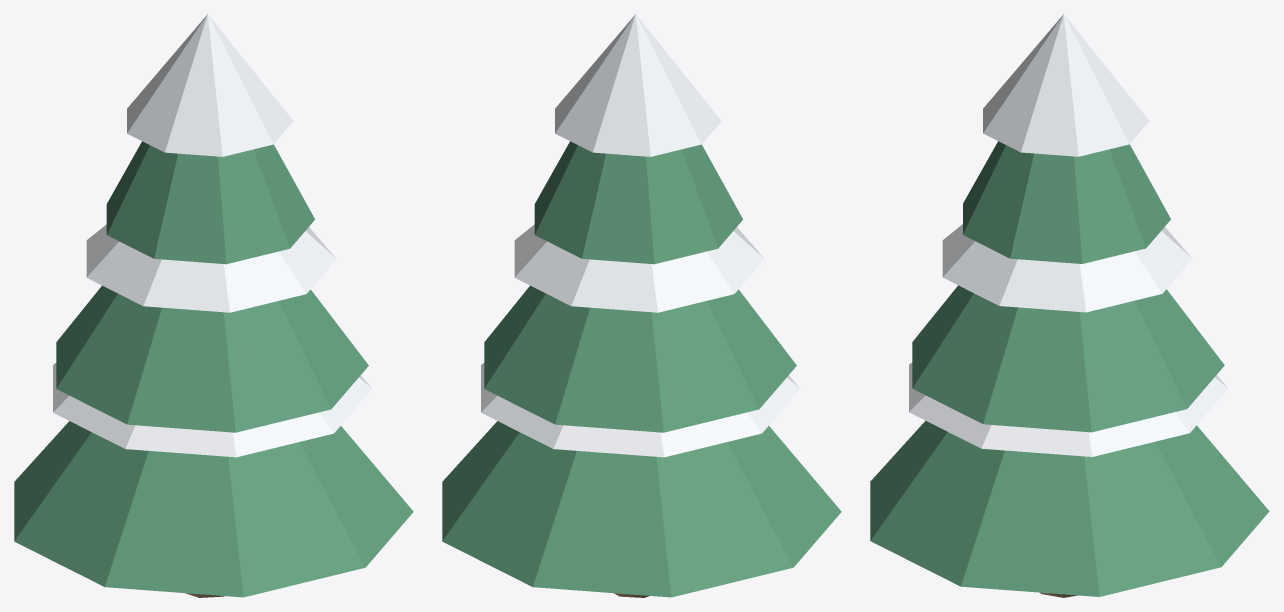
File: tree.glb
3 views of the same model, side by side, from view 1: azimuth 30°, elevation 25°; view 2: azimuth 150°, elevation 25°; view 3: azimuth 270°, elevation 25° (orthographic).
Visible parts, largest first — view 1: pine0, pine1, pine2, psnow2, psnow1, psnow0; view 2: pine0, pine1, pine2, psnow2, psnow1, psnow0; view 3: pine0, pine1, pine2, psnow2, psnow1, psnow0.
Boxes of the visible parts, <box> form: pine0: <box>14,421,413,597</box>; pine1: <box>56,285,368,432</box>; pine2: <box>106,141,314,264</box>; psnow2: <box>127,14,293,156</box>; psnow1: <box>86,224,336,312</box>; psnow0: <box>53,363,372,457</box>; pine0: <box>442,421,841,597</box>; pine1: <box>484,285,796,432</box>; pine2: <box>534,141,742,264</box>; psnow2: <box>555,14,721,156</box>; psnow1: <box>514,224,764,312</box>; psnow0: <box>481,363,800,457</box>; pine0: <box>870,420,1269,596</box>; pine1: <box>912,285,1224,432</box>; pine2: <box>963,141,1170,263</box>; psnow2: <box>983,14,1149,156</box>; psnow1: <box>942,224,1192,312</box>; psnow0: <box>909,362,1228,456</box>.
Size of the model in its own units: 2.27 by 3.52 by 2.23.
